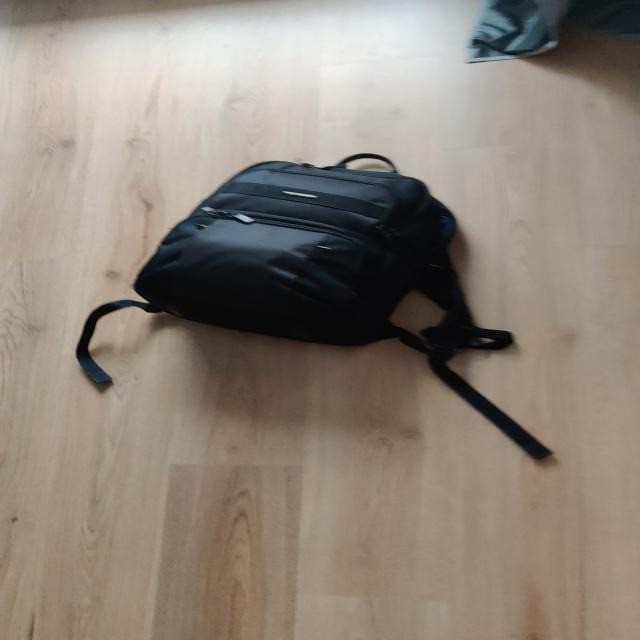backpack: (128, 146, 476, 354)
